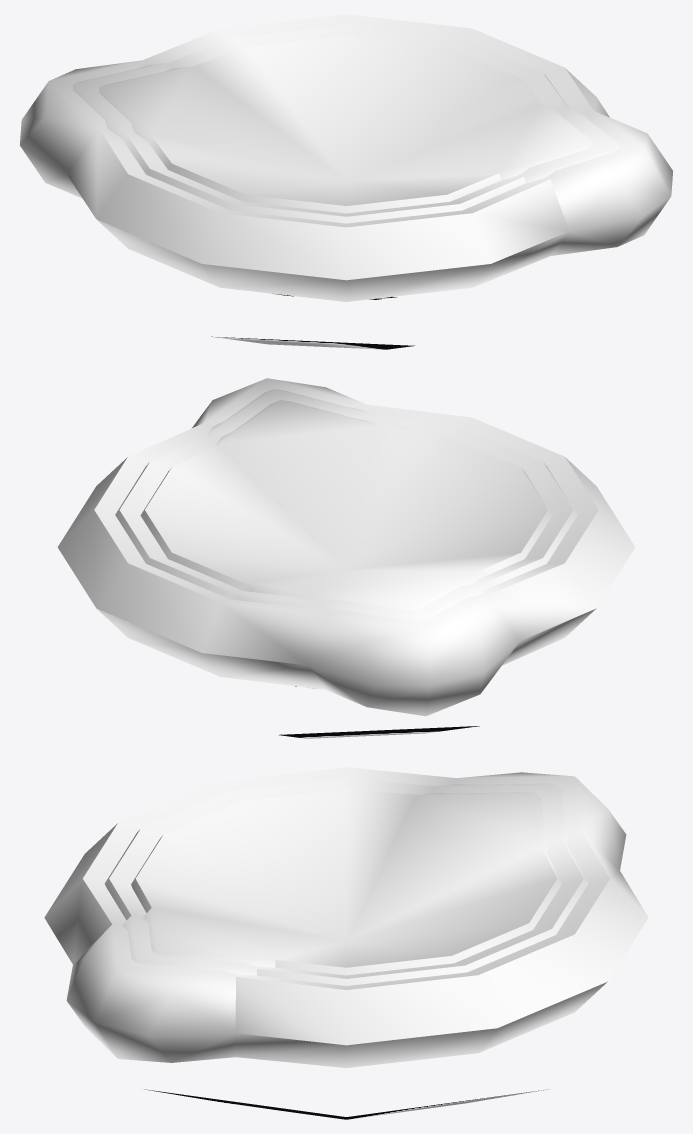
The model's file is model_shield.glb.
3 views of the same model, one above another, from view 1: azimuth 30°, elevation 25°; view 2: azimuth 150°, elevation 25°; view 3: azimuth 270°, elevation 25° (orthographic). The views are drawn at different scales.
Parts seen in each view (by area): view 1: parts.model_shield-MeshSets[mesh_shield-r3].Mesh[0], parts.model_shield-MeshSets[mesh_shield-r1].Mesh[0], parts.model_shield-MeshSets[mesh_shield-r2].Mesh[0], parts.model_shield-MeshSets[mesh_shield-r3].Mesh[2]; view 2: parts.model_shield-MeshSets[mesh_shield-r1].Mesh[0], parts.model_shield-MeshSets[mesh_shield-r3].Mesh[0], parts.model_shield-MeshSets[mesh_shield-r2].Mesh[0], parts.model_shield-MeshSets[mesh_shield-r3].Mesh[2]; view 3: parts.model_shield-MeshSets[mesh_shield-r3].Mesh[0], parts.model_shield-MeshSets[mesh_shield-r1].Mesh[0], parts.model_shield-MeshSets[mesh_shield-r2].Mesh[0], parts.model_shield-MeshSets[mesh_shield-r3].Mesh[2].
Part boxes in pixels (box(x1,y1,x2,y2)): parts.model_shield-MeshSets[mesh_shield-r3].Mesh[0]: box(19, 14, 672, 301); parts.model_shield-MeshSets[mesh_shield-r1].Mesh[0]: box(99, 35, 593, 213); parts.model_shield-MeshSets[mesh_shield-r2].Mesh[0]: box(72, 25, 620, 223); parts.model_shield-MeshSets[mesh_shield-r3].Mesh[2]: box(211, 336, 414, 349); parts.model_shield-MeshSets[mesh_shield-r1].Mesh[0]: box(140, 400, 552, 610); parts.model_shield-MeshSets[mesh_shield-r3].Mesh[0]: box(57, 378, 635, 716); parts.model_shield-MeshSets[mesh_shield-r2].Mesh[0]: box(115, 389, 577, 621); parts.model_shield-MeshSets[mesh_shield-r3].Mesh[2]: box(279, 726, 479, 738); parts.model_shield-MeshSets[mesh_shield-r3].Mesh[0]: box(44, 767, 648, 1067); parts.model_shield-MeshSets[mesh_shield-r1].Mesh[0]: box(131, 789, 561, 975); parts.model_shield-MeshSets[mesh_shield-r2].Mesh[0]: box(104, 778, 588, 985); parts.model_shield-MeshSets[mesh_shield-r3].Mesh[2]: box(144, 1089, 548, 1119).
Bounding box in the file's own units: 0.7051 × 0.2067 × 0.6706.
3 materials, 3 textured.
